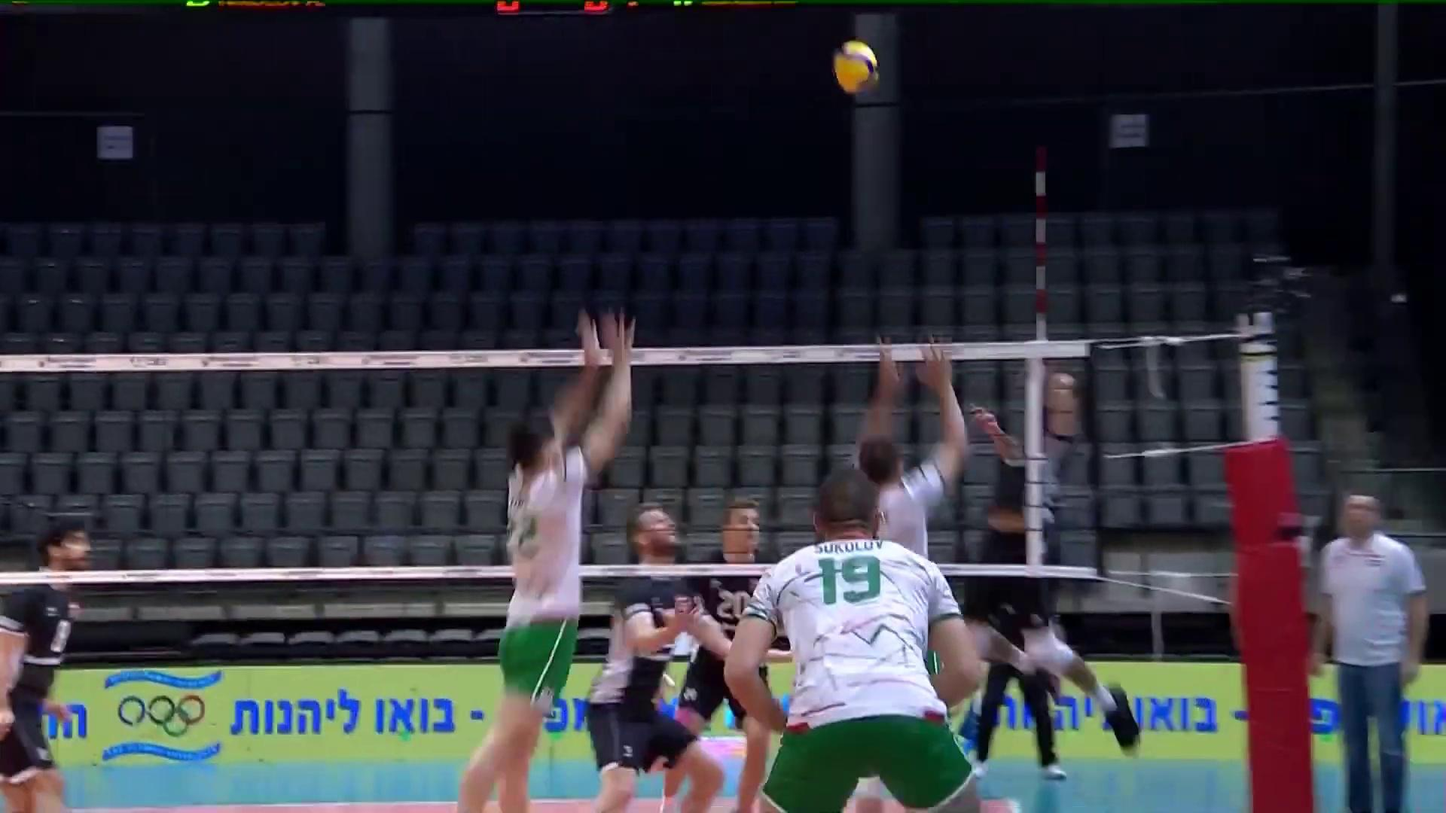ball: (825, 40, 887, 96)
